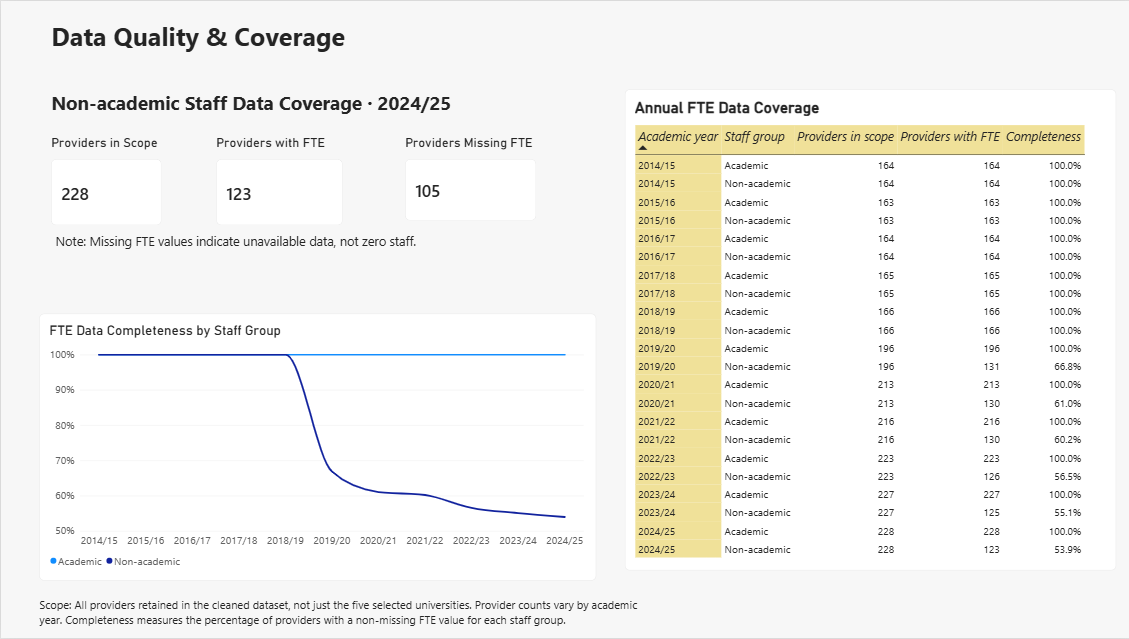

The dashboard page shown, as its layout file describes it:
{"tool":"powerbi","page":{"name":"Data Quality & Coverage","canvas":[1920,1080],"ordinal":1},"visuals":[{"type":"cardVisual","title":"Providers in Scope","fields":{"Data":["hesa_staff_coverage.Non-academic Providers 2024/25"]},"box":[86,227,187.1,152.4],"z":0,"group":"g1"},{"type":"lineChart","title":"FTE Data Completeness by Staff Group","fields":{"Category":["DimAcademicYear.academic_year"],"Series":["hesa_staff_coverage.staff_group"],"Y":["hesa_staff_coverage.FTE Completeness %"]},"box":[64,530,944,452],"z":0},{"type":"cardVisual","title":"Providers with FTE","fields":{"Data":["hesa_staff_coverage.Non-academic Providers With FTE 2024/25"]},"box":[365,227,214.5,152.4],"z":1000,"group":"g1"},{"type":"textbox","box":[64,1010,1034,70],"z":1000},{"type":"group","id":"g1","title":"Group 1","box":[86,150,822,282],"z":2000},{"type":"cardVisual","title":"Providers Missing FTE","fields":{"Data":["hesa_staff_coverage.Non-academic Providers Missing FTE 2024/25"]},"box":[685.9,227,222.6,144.7],"z":2000,"group":"g1"},{"type":"textbox","box":[86,150,711.2,58.5],"z":3000,"group":"g1"},{"type":"tableEx","title":"Annual FTE Data Coverage","fields":{"Values":["DimAcademicYear.academic_year","hesa_staff_coverage.staff_group","Sum(hesa_staff_coverage.provider_count)","Sum(hesa_staff_coverage.providers_with_fte)","hesa_staff_coverage.FTE Completeness %"]},"box":[1057.5,150,832.5,815],"z":3000},{"type":"textbox","box":[86,30,614,88],"z":4000},{"type":"textbox","box":[94,392,685.4,40],"z":4000,"group":"g1"}]}

Visuals, with their boxes in screenshot pixels (x1, y1, x2, y2), scaled from the page's 1920x1080 canvas onto the 1129x639 screenshot:
"Providers in Scope" cardVisual: <box>51,134,161,224</box>
"FTE Data Completeness by Staff Group" lineChart: <box>38,314,593,581</box>
"Providers with FTE" cardVisual: <box>215,134,341,224</box>
textbox: <box>38,598,646,638</box>
"Group 1" group: <box>51,89,534,256</box>
"Providers Missing FTE" cardVisual: <box>403,134,534,220</box>
textbox: <box>51,89,469,123</box>
"Annual FTE Data Coverage" tableEx: <box>622,89,1111,571</box>
textbox: <box>51,18,412,70</box>
textbox: <box>55,232,458,256</box>
